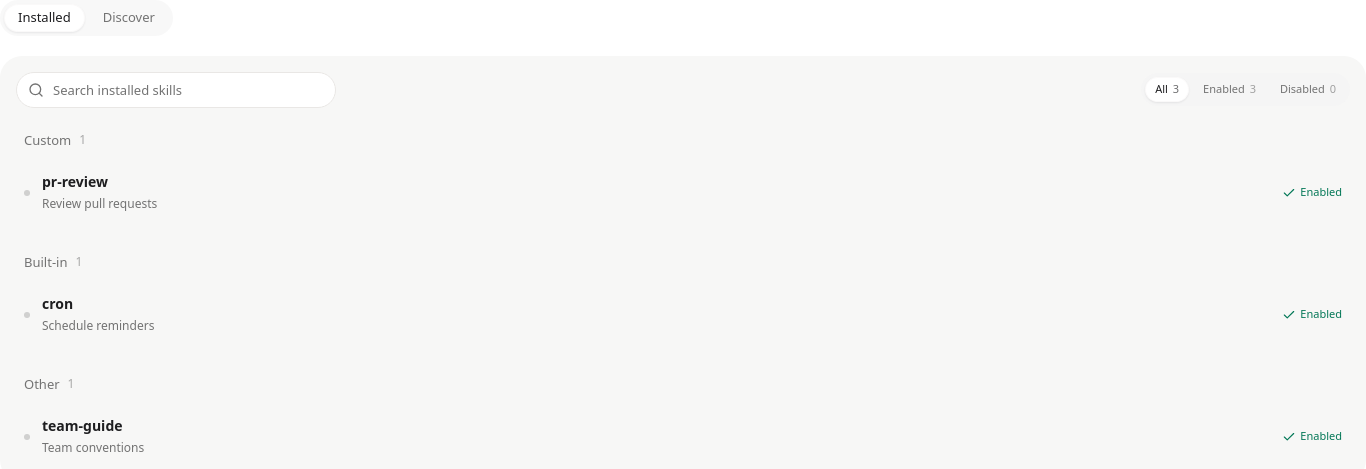
Test: Settings system domains › keeps skill group labels natural without changing grouping or filtering
The image size is (1366, 469).
Check: the text "1" next to "Other" is shown, box top-left (68, 374), bottom-right (74, 392)
In the field labelled "Search installed skills": (176, 90) top-left (16, 72), bottom-right (336, 108), type "cron"
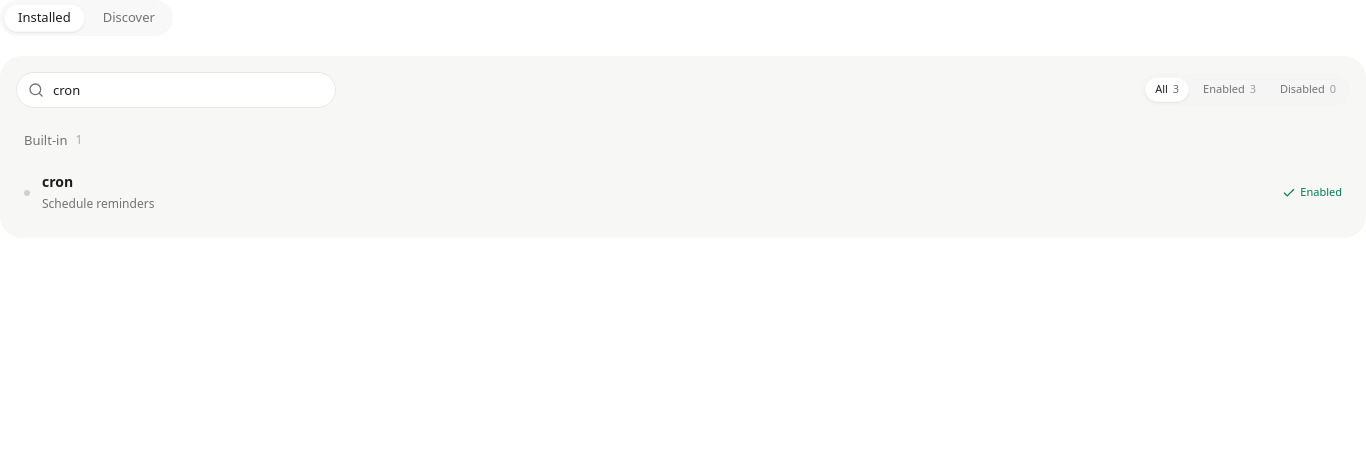
Check: the heading "Built-in" is shown, box top-left (24, 130), bottom-right (68, 150)
Check: the heading "Custom" is gone
Check: the heading "Other" is gone
